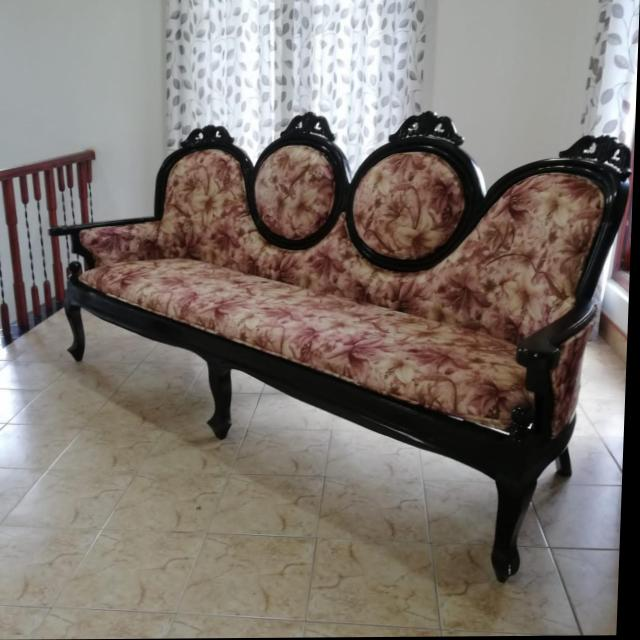Sofa: (39, 109, 634, 583)
